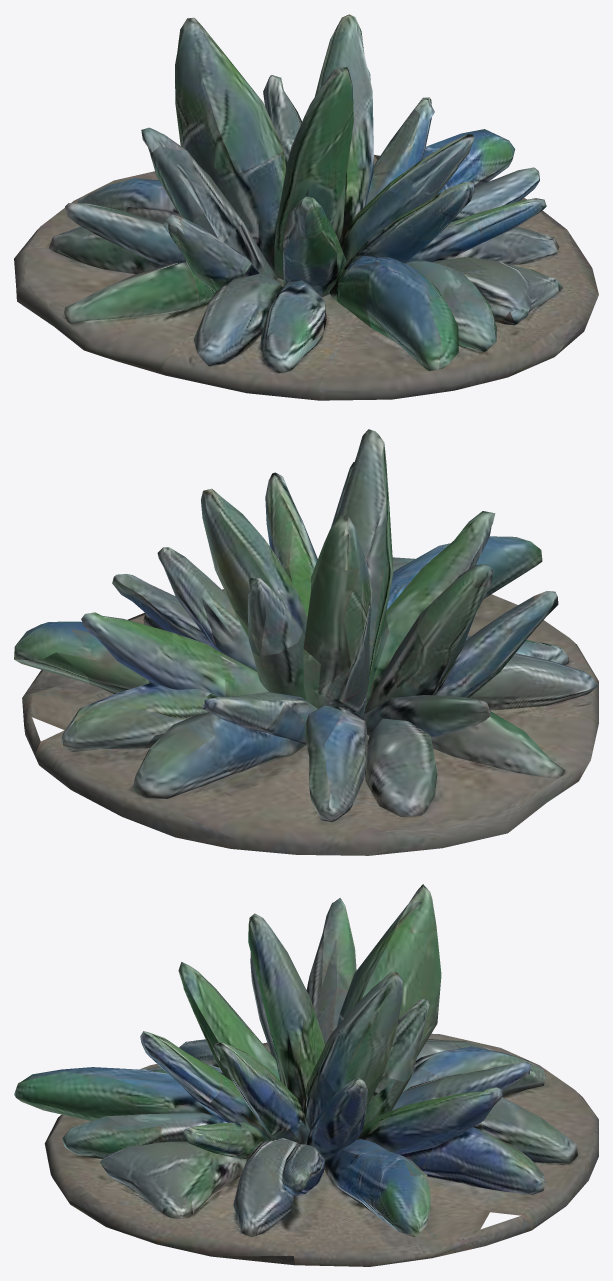
Rendered from jd_cristal_p.glb.
3 renders of one model, top to bottom at view 1: azimuth 30°, elevation 25°; view 2: azimuth 150°, elevation 25°; view 3: azimuth 270°, elevation 25°, orthographic. The views are drawn at different scales.
Parts seen in each view (by area): view 1: mesh_node.008; view 2: mesh_node.008; view 3: mesh_node.008.
Boxes of the visible parts, <box> form: mesh_node.008: <box>14,14,598,400</box>; mesh_node.008: <box>14,429,598,855</box>; mesh_node.008: <box>14,884,598,1266</box>.
Size of the model in its own units: 0.251 by 0.1399 by 0.2793.
Materials: 1 (1 with a texture image).
